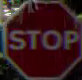Stop: (5, 0, 81, 79)
